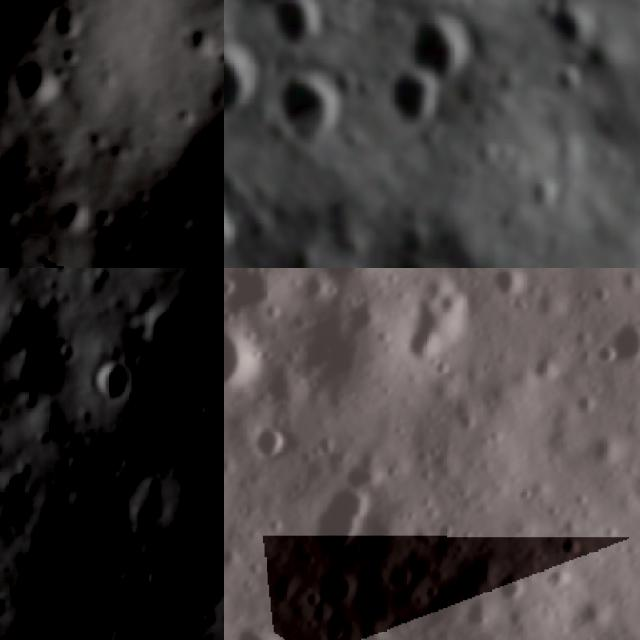crater: (378, 278, 487, 372), (296, 472, 394, 562), (391, 7, 486, 89), (267, 58, 350, 151), (371, 60, 446, 138), (224, 308, 276, 411), (0, 0, 79, 49), (240, 412, 304, 472), (292, 268, 416, 298), (446, 545, 509, 603), (305, 560, 365, 617), (224, 28, 258, 123), (140, 290, 188, 357), (5, 56, 64, 110), (265, 0, 325, 51), (576, 421, 631, 475), (348, 545, 402, 599), (598, 309, 640, 374), (567, 590, 615, 640), (547, 0, 593, 50), (483, 268, 537, 308), (173, 19, 221, 63), (525, 348, 569, 392), (382, 552, 427, 595), (86, 368, 138, 405), (427, 506, 471, 548), (546, 51, 582, 100), (224, 173, 243, 264), (563, 384, 606, 424), (224, 614, 289, 640), (554, 529, 596, 567), (590, 332, 628, 372), (58, 191, 93, 230), (528, 170, 560, 208), (472, 135, 501, 174), (587, 278, 619, 310), (0, 581, 13, 632), (102, 627, 145, 640), (213, 189, 224, 228)
